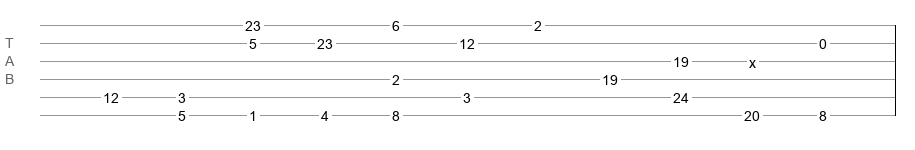0: (819, 36, 827, 46)
1: (249, 108, 257, 118)
12: (103, 90, 119, 100), (459, 36, 475, 46)
19: (602, 72, 618, 82), (673, 54, 689, 64)
2: (392, 72, 400, 82), (534, 18, 542, 28)
20: (744, 108, 760, 118)
23: (245, 18, 261, 28), (317, 36, 333, 46)
24: (673, 90, 689, 100)
3: (178, 90, 186, 100), (463, 90, 471, 100)
4: (321, 108, 329, 118)
5: (178, 108, 186, 118), (249, 36, 257, 46)
6: (392, 18, 400, 28)
8: (392, 108, 400, 118), (819, 108, 827, 118)
x: (749, 55, 756, 63)
